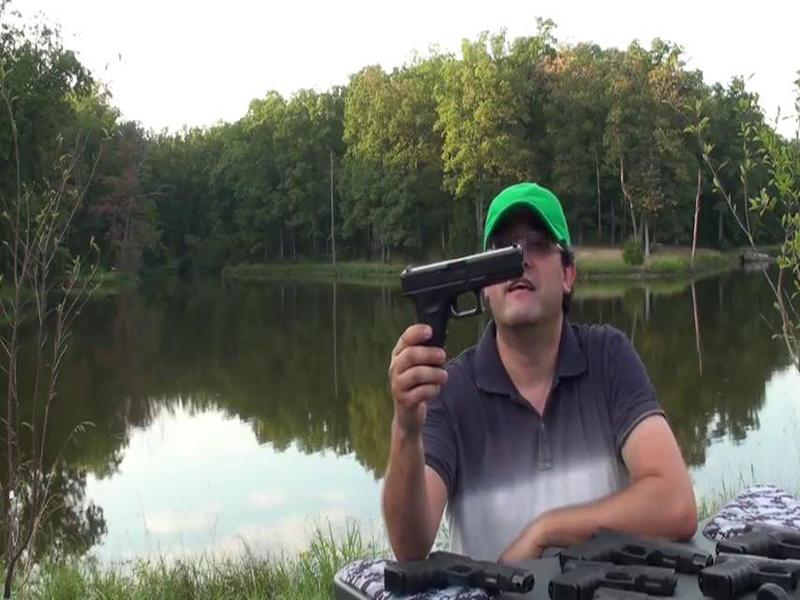Pistola: (389, 230, 535, 387), (370, 537, 532, 600), (544, 554, 664, 600)
